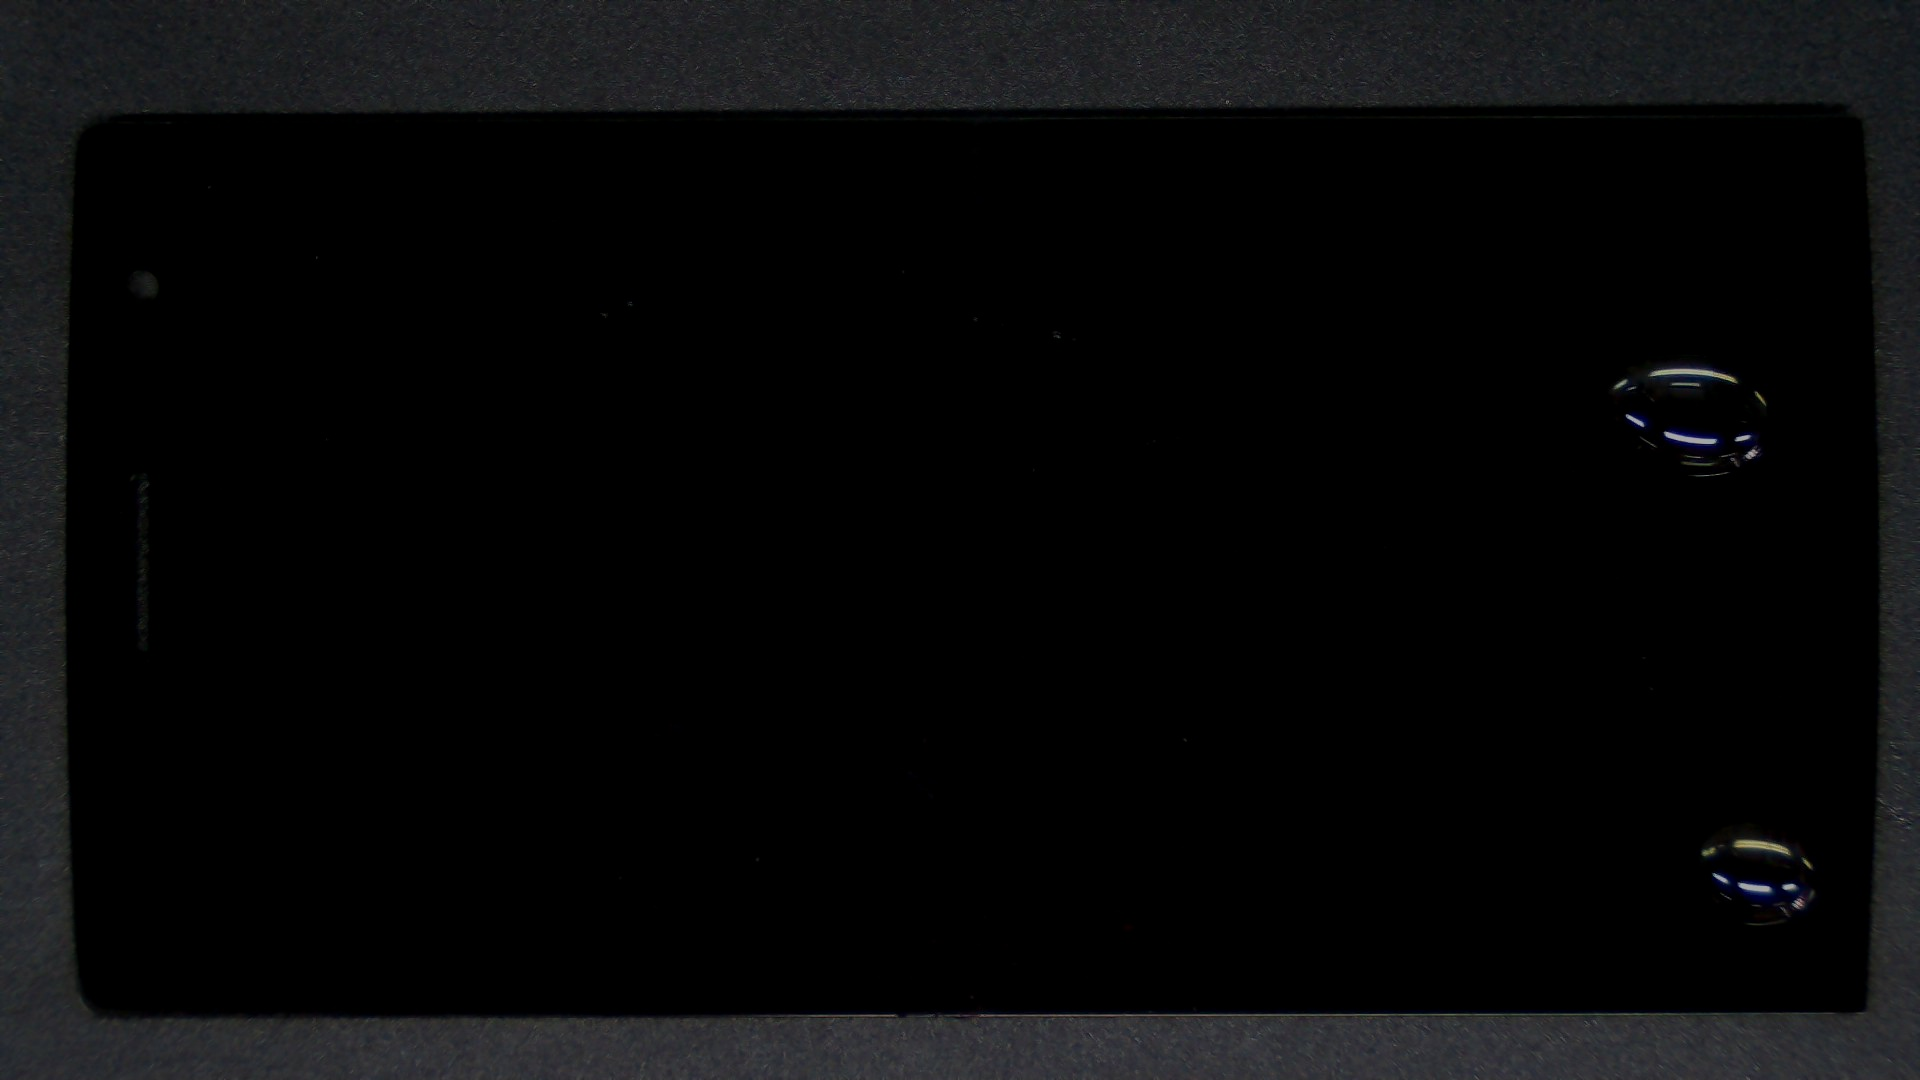oil: (870, 410, 1920, 1080), (832, 177, 1920, 533)
